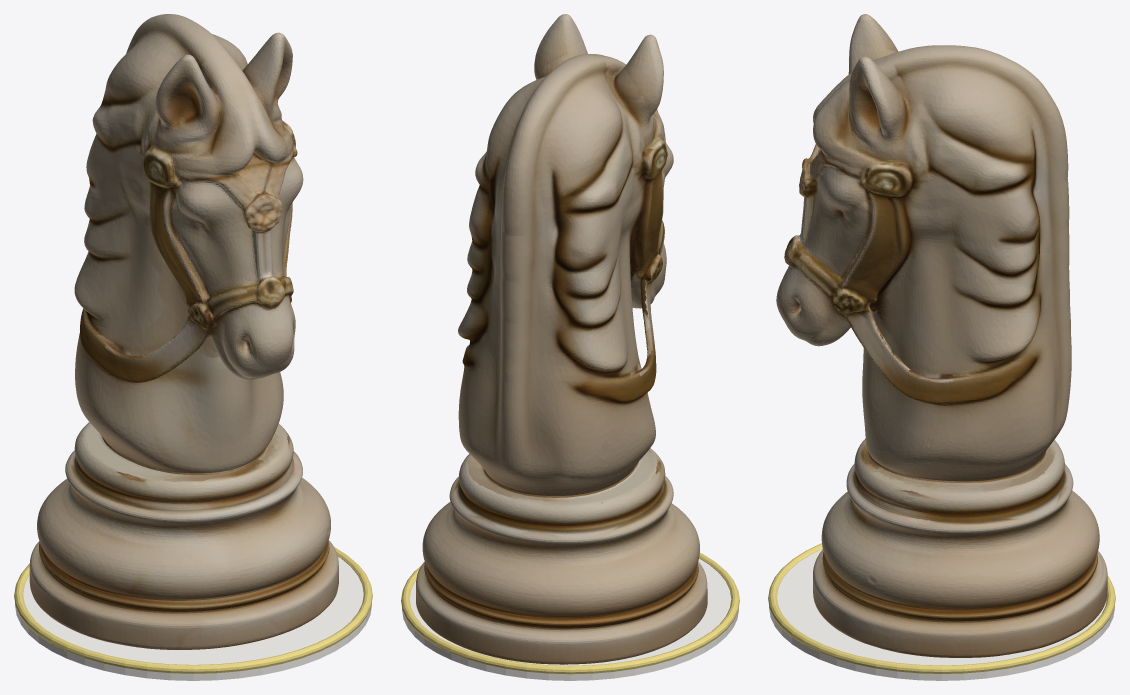
The model's file is knight-classic-cavallo.glb.
3 views of the same model, side by side, from view 1: azimuth 30°, elevation 25°; view 2: azimuth 150°, elevation 25°; view 3: azimuth 270°, elevation 25° (orthographic). The views are drawn at different scales.
Parts seen in each view (by area): view 1: tmp6uqtynbf.ply, FactionPedestal, FactionTrimRing; view 2: tmp6uqtynbf.ply, FactionPedestal, FactionTrimRing; view 3: tmp6uqtynbf.ply, FactionPedestal, FactionTrimRing.
Part boxes in pixels (x1=…): tmp6uqtynbf.ply: x1=29, y1=14, x2=338, y2=649; FactionPedestal: x1=15, y1=556, x2=371, y2=680; FactionTrimRing: x1=14, y1=547, x2=372, y2=673; tmp6uqtynbf.ply: x1=416, y1=14, x2=707, y2=664; FactionPedestal: x1=402, y1=558, x2=738, y2=680; FactionTrimRing: x1=401, y1=553, x2=739, y2=674; tmp6uqtynbf.ply: x1=776, y1=14, x2=1107, y2=657; FactionPedestal: x1=769, y1=549, x2=1114, y2=680; FactionTrimRing: x1=768, y1=543, x2=1115, y2=673.
Size of the model in its own units: 0.744 by 1.35 by 0.744.
3 materials, 1 textured.
